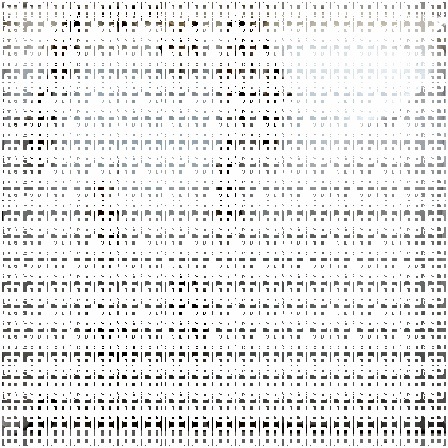bee: (64, 289, 146, 376), (153, 254, 227, 349), (69, 162, 136, 263), (204, 128, 256, 237), (8, 79, 68, 172), (204, 50, 264, 140), (252, 55, 299, 157), (41, 4, 94, 90), (213, 8, 284, 72), (147, 10, 213, 78), (16, 378, 75, 434)
